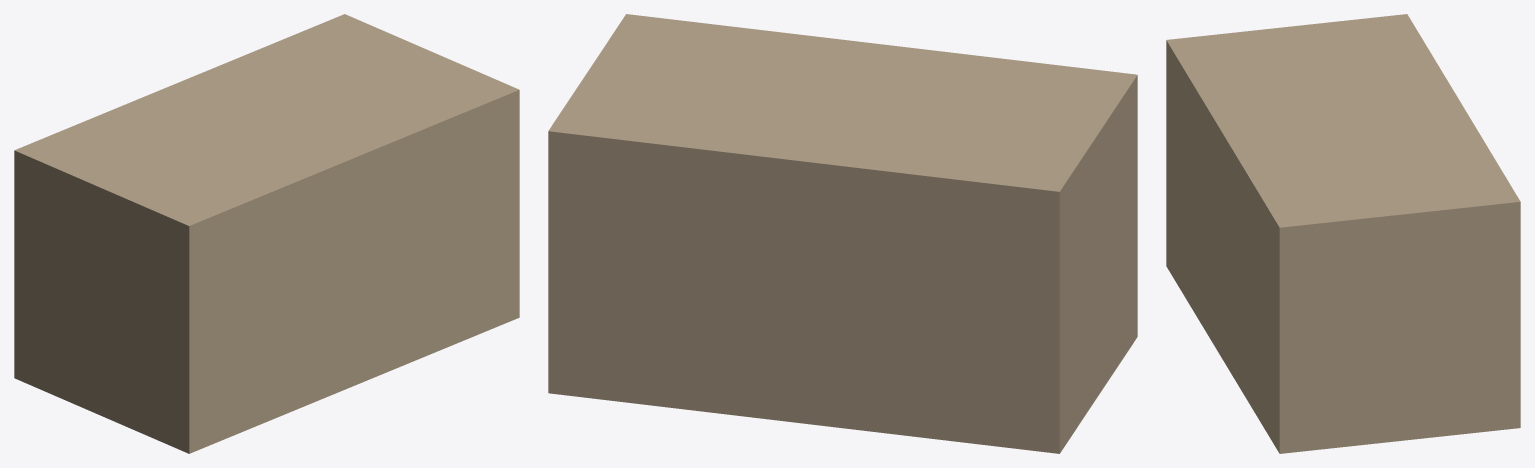
File: bld_109034830.dae
3 renders of one model, left to right at view 1: azimuth 30°, elevation 25°; view 2: azimuth 150°, elevation 25°; view 3: azimuth 270°, elevation 25°, orthographic. The views are drawn at different scales.
Visible parts, largest first — view 1: bld_109034830; view 2: bld_109034830; view 3: bld_109034830.
Part boxes in pixels (left/top/right/bottom): bld_109034830: left=14, top=14, right=519, bottom=453; bld_109034830: left=548, top=14, right=1137, bottom=453; bld_109034830: left=1166, top=14, right=1520, bottom=453.
Bounding box in the file's own units: 16.21 × 11.36 × 8.
